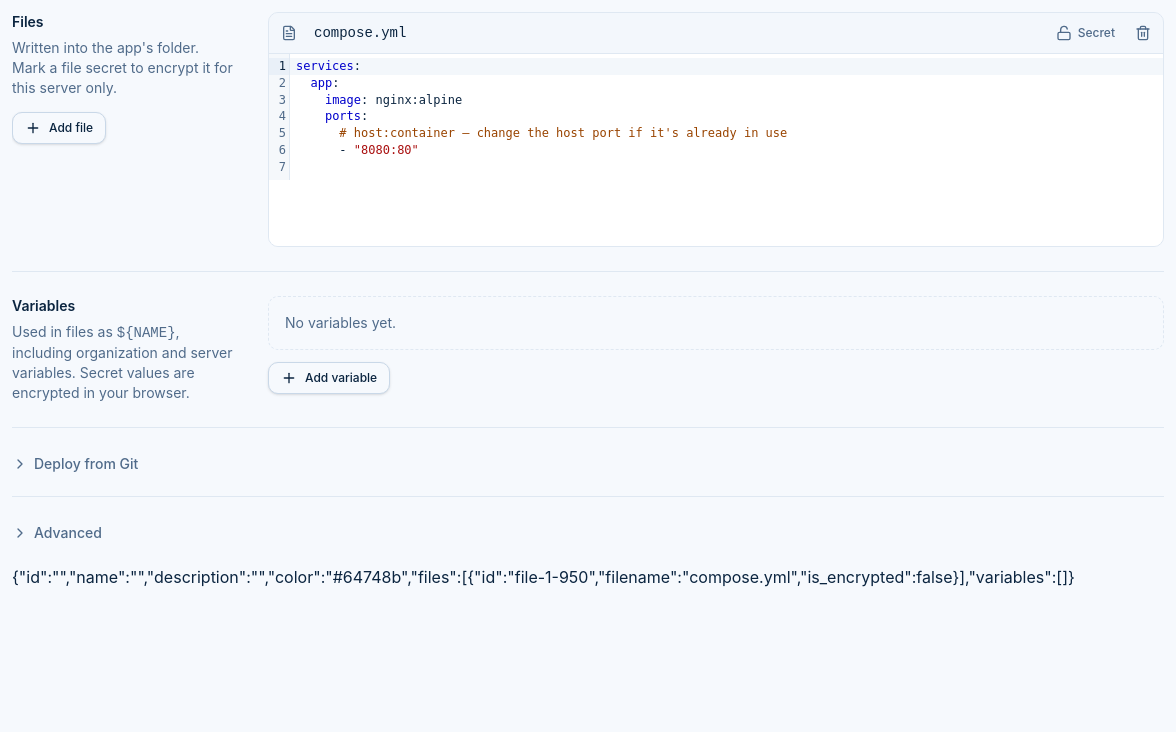
Scenario: AppEditor › keeps Deploy from Git closed until used, and opens it as the Git source
The image size is (1176, 732).
Click the button "Deploy from Git".
click(75, 464)  # box x1=12 y1=444 x2=138 y2=484
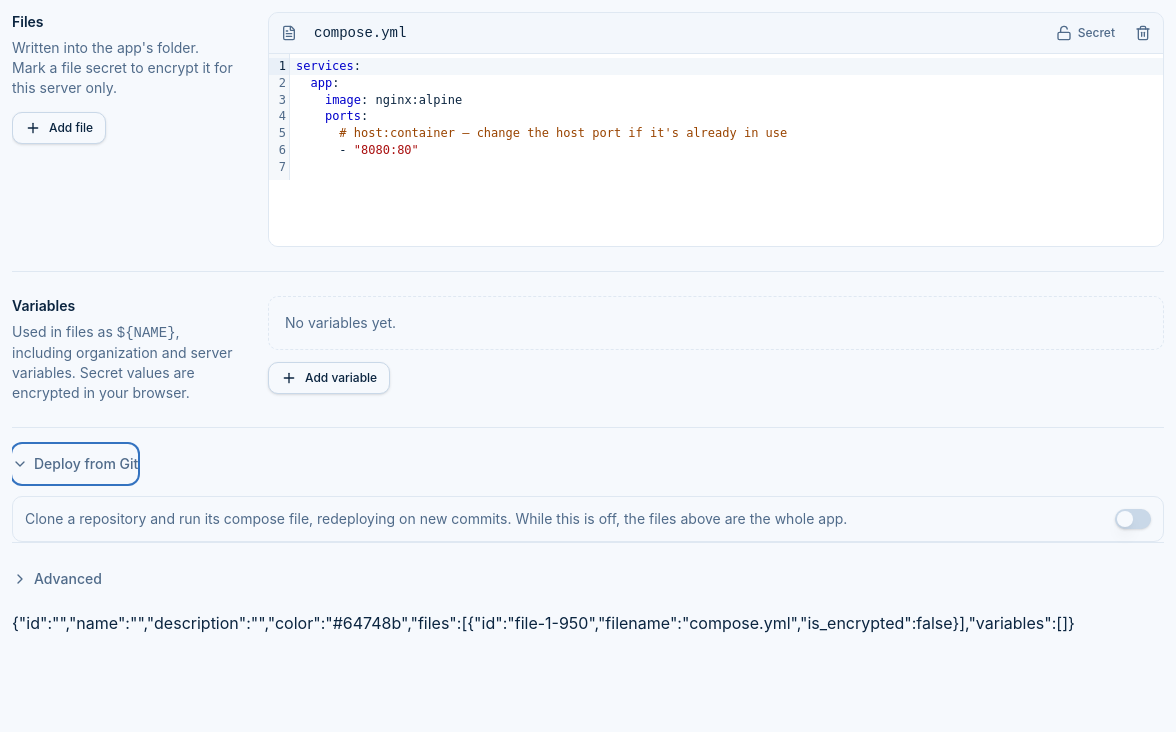
Click the switch named "Deploy from Git".
click(1133, 519)  # box x1=1115 y1=509 x2=1151 y2=529
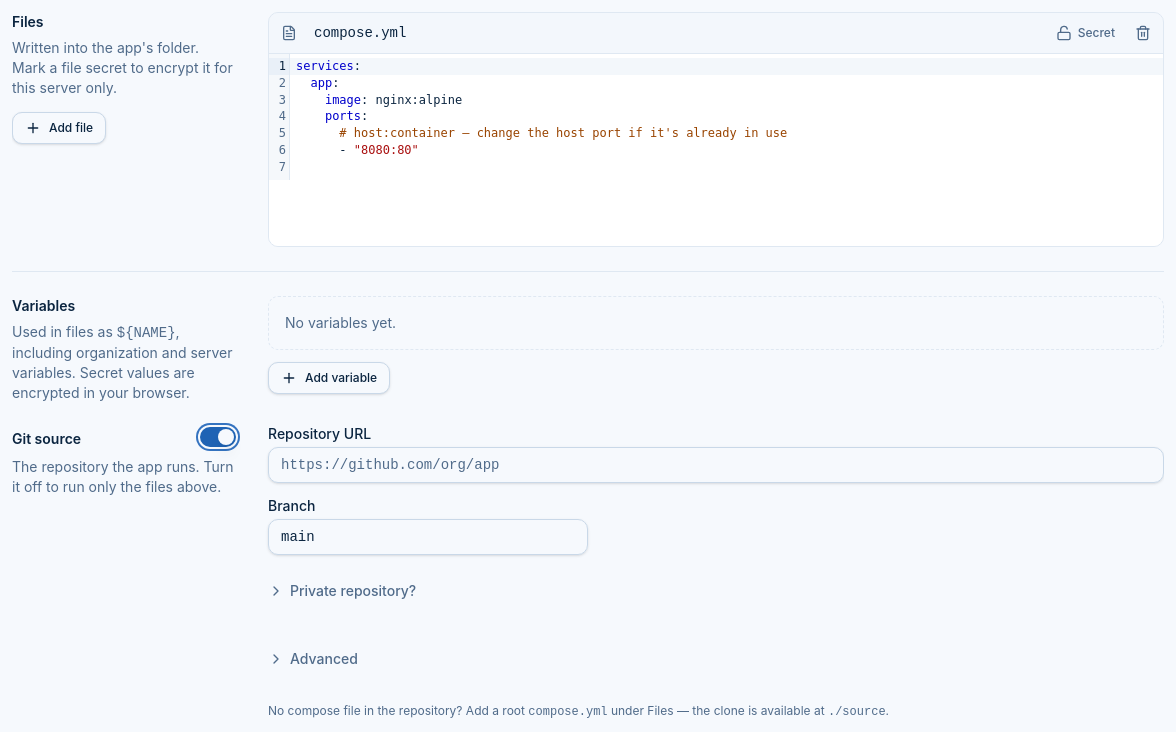
Now the heading "Git source" is shown, box x1=12 y1=429 x2=81 y2=449
Now the field labelled "Repository URL" is shown, box x1=268 y1=447 x2=1164 y2=483
